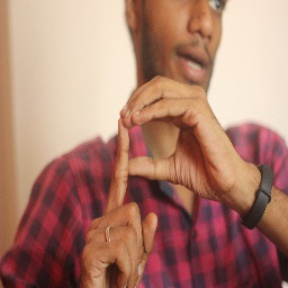P: (81, 74, 230, 276)
